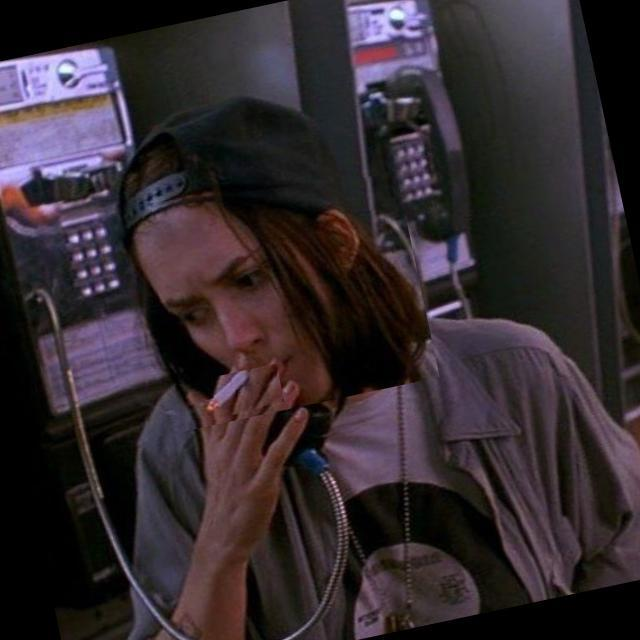cigarette: (174, 363, 285, 427)
